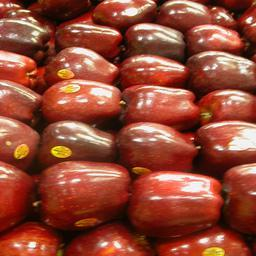apple: (35, 161, 130, 230), (131, 170, 224, 237), (118, 121, 199, 169), (39, 120, 118, 164), (42, 79, 121, 122), (121, 84, 200, 125), (65, 222, 156, 256), (42, 45, 118, 83), (187, 50, 256, 90), (161, 228, 255, 256), (195, 121, 256, 163), (223, 163, 256, 231), (120, 54, 189, 86), (124, 22, 187, 57), (1, 78, 42, 128), (1, 160, 32, 226), (1, 222, 61, 256), (1, 114, 38, 168), (55, 24, 121, 53), (201, 88, 256, 122), (187, 23, 243, 53), (1, 18, 50, 52), (92, 1, 158, 26), (158, 1, 211, 27)
